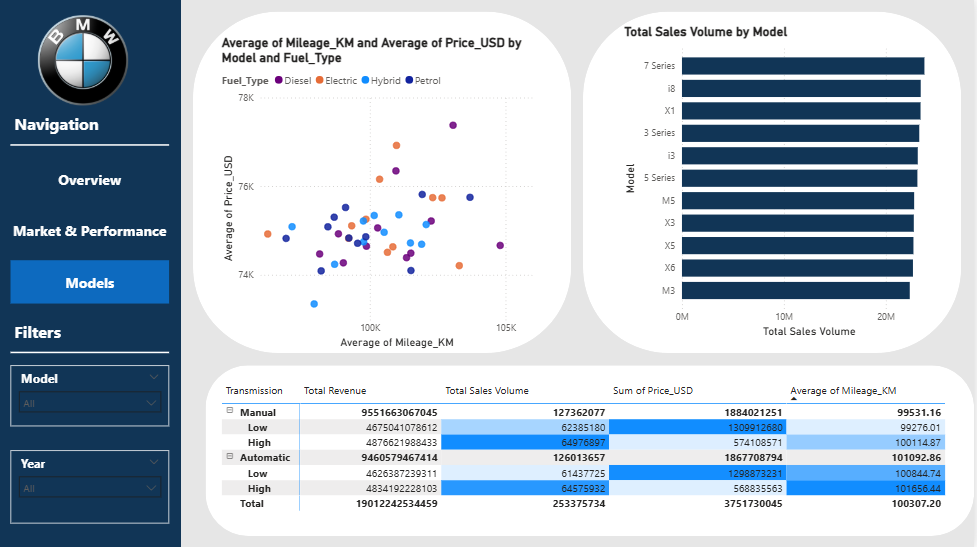

This screenshot's page, from the dashboard's own definition file:
{"tool":"powerbi","page":{"name":"Models","canvas":[1280,720],"ordinal":2},"visuals":[{"type":"shape","box":[0,0,240,720],"z":0},{"type":"shape","box":[256,16,496,448],"z":1000},{"type":"shape","box":[768,16,496,448],"z":2000},{"type":"shape","box":[272,480,1008,224],"z":3000},{"type":"textbox","box":[16,144,208,48],"z":4000},{"type":"shape","box":[16,176,208,32],"z":5000},{"type":"image","box":[48,16,128,128],"z":6000},{"type":"textbox","box":[16,416,144,64],"z":7000},{"type":"shape","box":[16,448,208,32],"z":8000},{"type":"slicer","fields":{"Values":["BMW sales data.Model"]},"box":[16,480,208,80],"z":9000},{"type":"slicer","fields":{"Values":["BMW sales data.Year"]},"box":[16,592,208,96],"z":10000},{"type":"pivotTable","fields":{"Values":["BMW sales data.Total Revenue","BMW sales data.Total Sales Volume","Sum(BMW sales data.Price_USD)","Avg(BMW sales data.Mileage_KM)"],"Columns":["BMW sales data.Transmission"],"Rows":["BMW sales data.Transmission","BMW sales data.Sales_Classification"]},"box":[288,496,960,192],"z":11000},{"type":"scatterChart","fields":{"X":["BMW sales data.Mileage_KM"],"Y":["BMW sales data.Price_USD"],"Category":["BMW sales data.Model"],"Series":["BMW sales data.Fuel_Type"]},"box":[288,48,432,416],"z":12000},{"type":"barChart","fields":{"Category":["BMW sales data.Model"],"Y":["BMW sales data.Total Sales Volume"]},"box":[816,32,432,416],"z":13000},{"type":"pageNavigator","box":[16,208,208,192],"z":14000}]}

Visuals, with their boxes in screenshot pixels (x1, y1, x2, y2), scaled from the page's 1280x720 canvas onto the 977x547 screenshot:
shape: x1=0, y1=0, x2=183, y2=546
shape: x1=195, y1=12, x2=574, y2=353
shape: x1=586, y1=12, x2=965, y2=353
shape: x1=208, y1=365, x2=976, y2=535
textbox: x1=12, y1=109, x2=171, y2=146
shape: x1=12, y1=134, x2=171, y2=158
image: x1=37, y1=12, x2=134, y2=109
textbox: x1=12, y1=316, x2=122, y2=365
shape: x1=12, y1=340, x2=171, y2=365
slicer - BMW sales data.Model: x1=12, y1=365, x2=171, y2=425
slicer - BMW sales data.Year: x1=12, y1=450, x2=171, y2=523
pivotTable - BMW sales data.Total Revenue x BMW sales data.Total Sales Volume: x1=220, y1=377, x2=953, y2=523
scatterChart - BMW sales data.Mileage_KM x BMW sales data.Price_USD: x1=220, y1=36, x2=550, y2=353
barChart - BMW sales data.Model x BMW sales data.Total Sales Volume: x1=623, y1=24, x2=953, y2=340
pageNavigator: x1=12, y1=158, x2=171, y2=304
